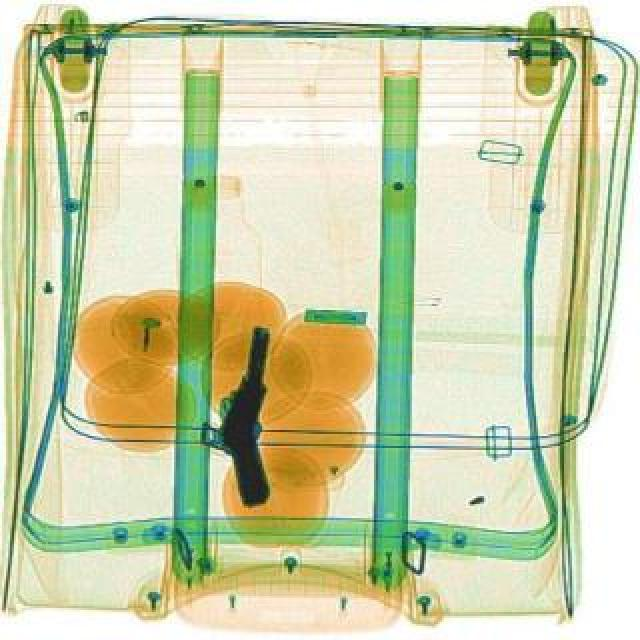gun: (192, 378, 308, 514), (198, 322, 280, 462)
